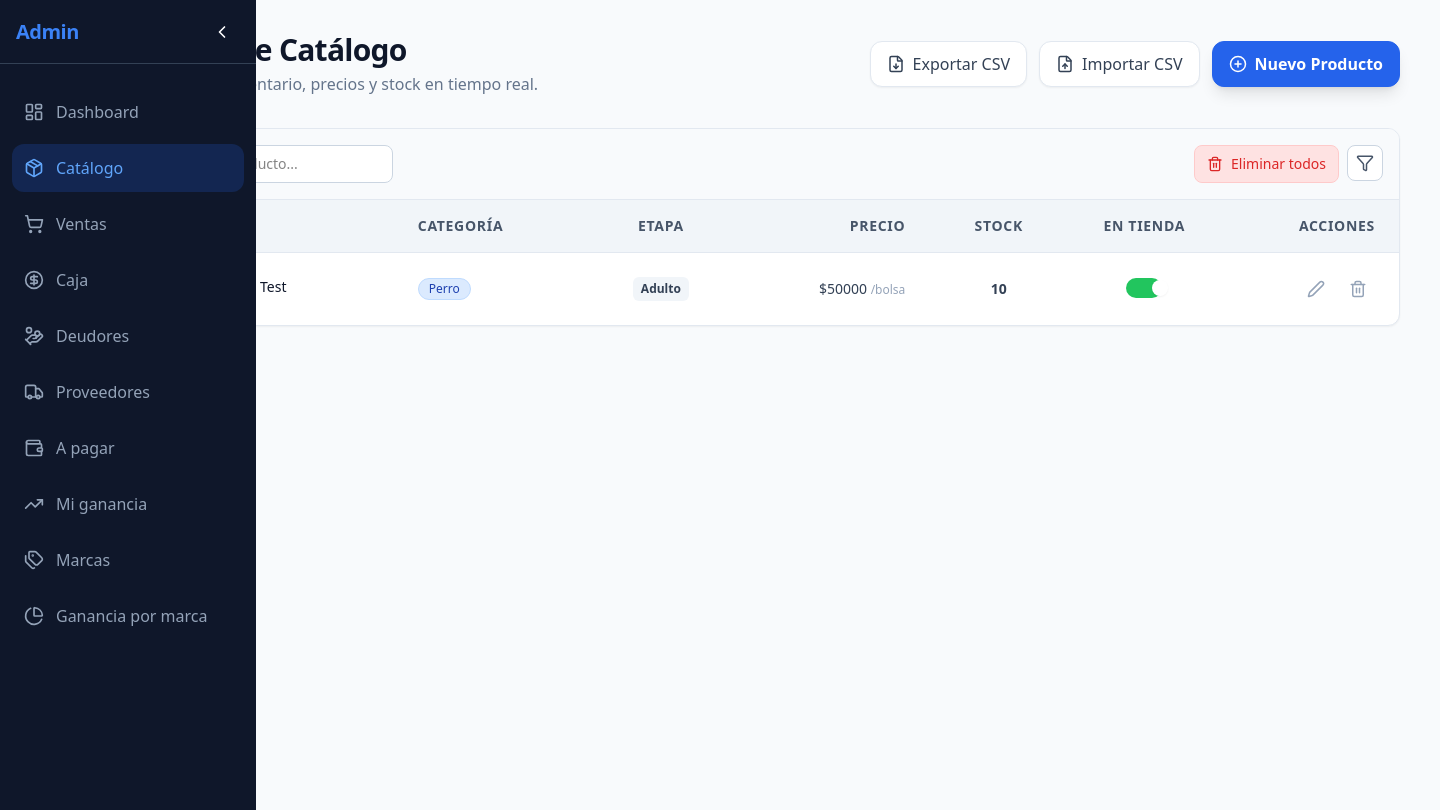
AdminPage (botón Nuevo Producto) › abre el mismo formulario de Nuevo Producto
Click the button "Nuevo Producto" at (1306, 64), box [1212, 41, 1400, 87]
(page scrolled)
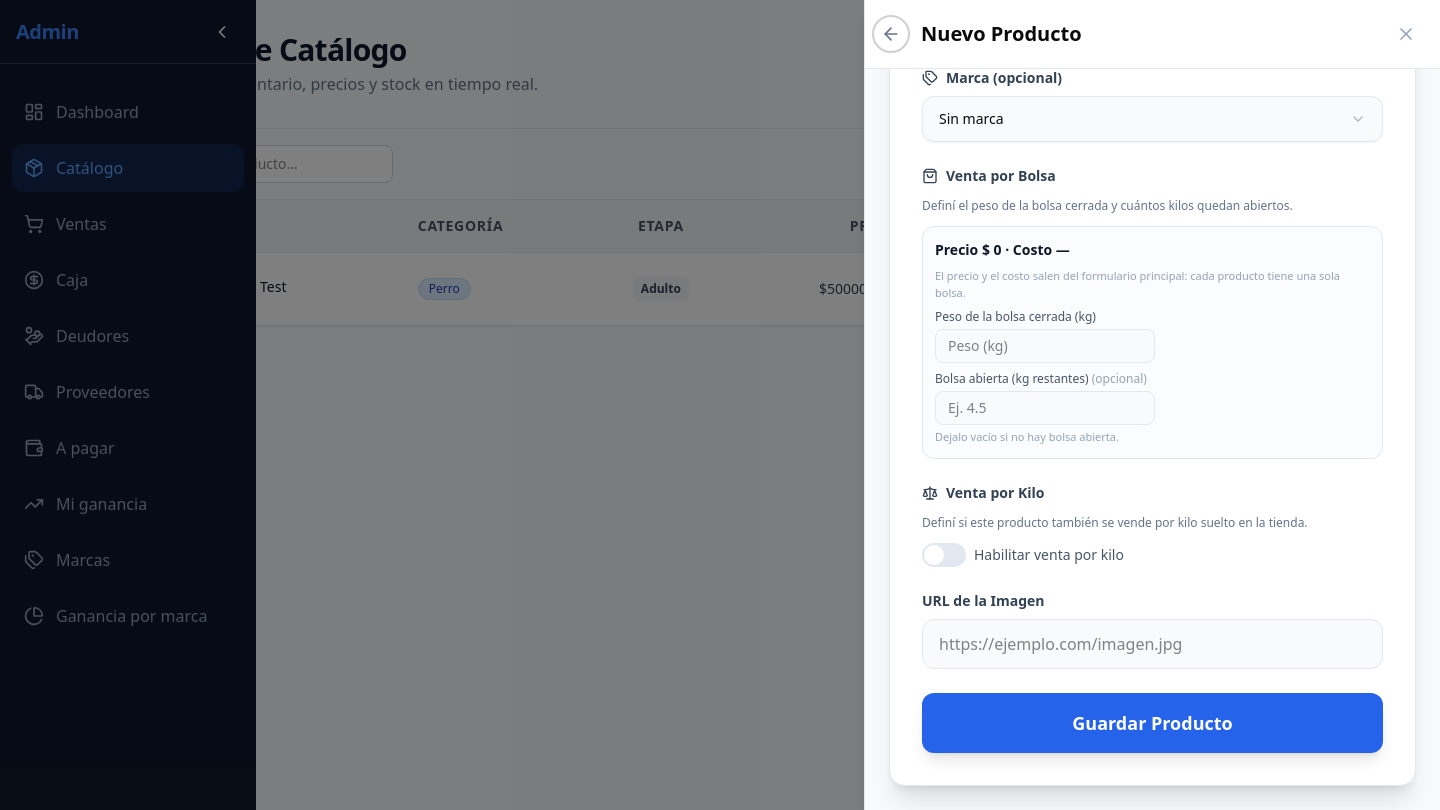
Check: the button "Guardar Producto" is shown, box [922, 692, 1383, 752]
